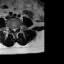CCS_normal: (13, 25, 15, 34)
LFS_normal: (17, 24, 19, 31)
LLS_normal: (15, 25, 17, 32)
RFS_normal: (9, 25, 11, 32)
RLS_normal: (11, 25, 13, 32)
